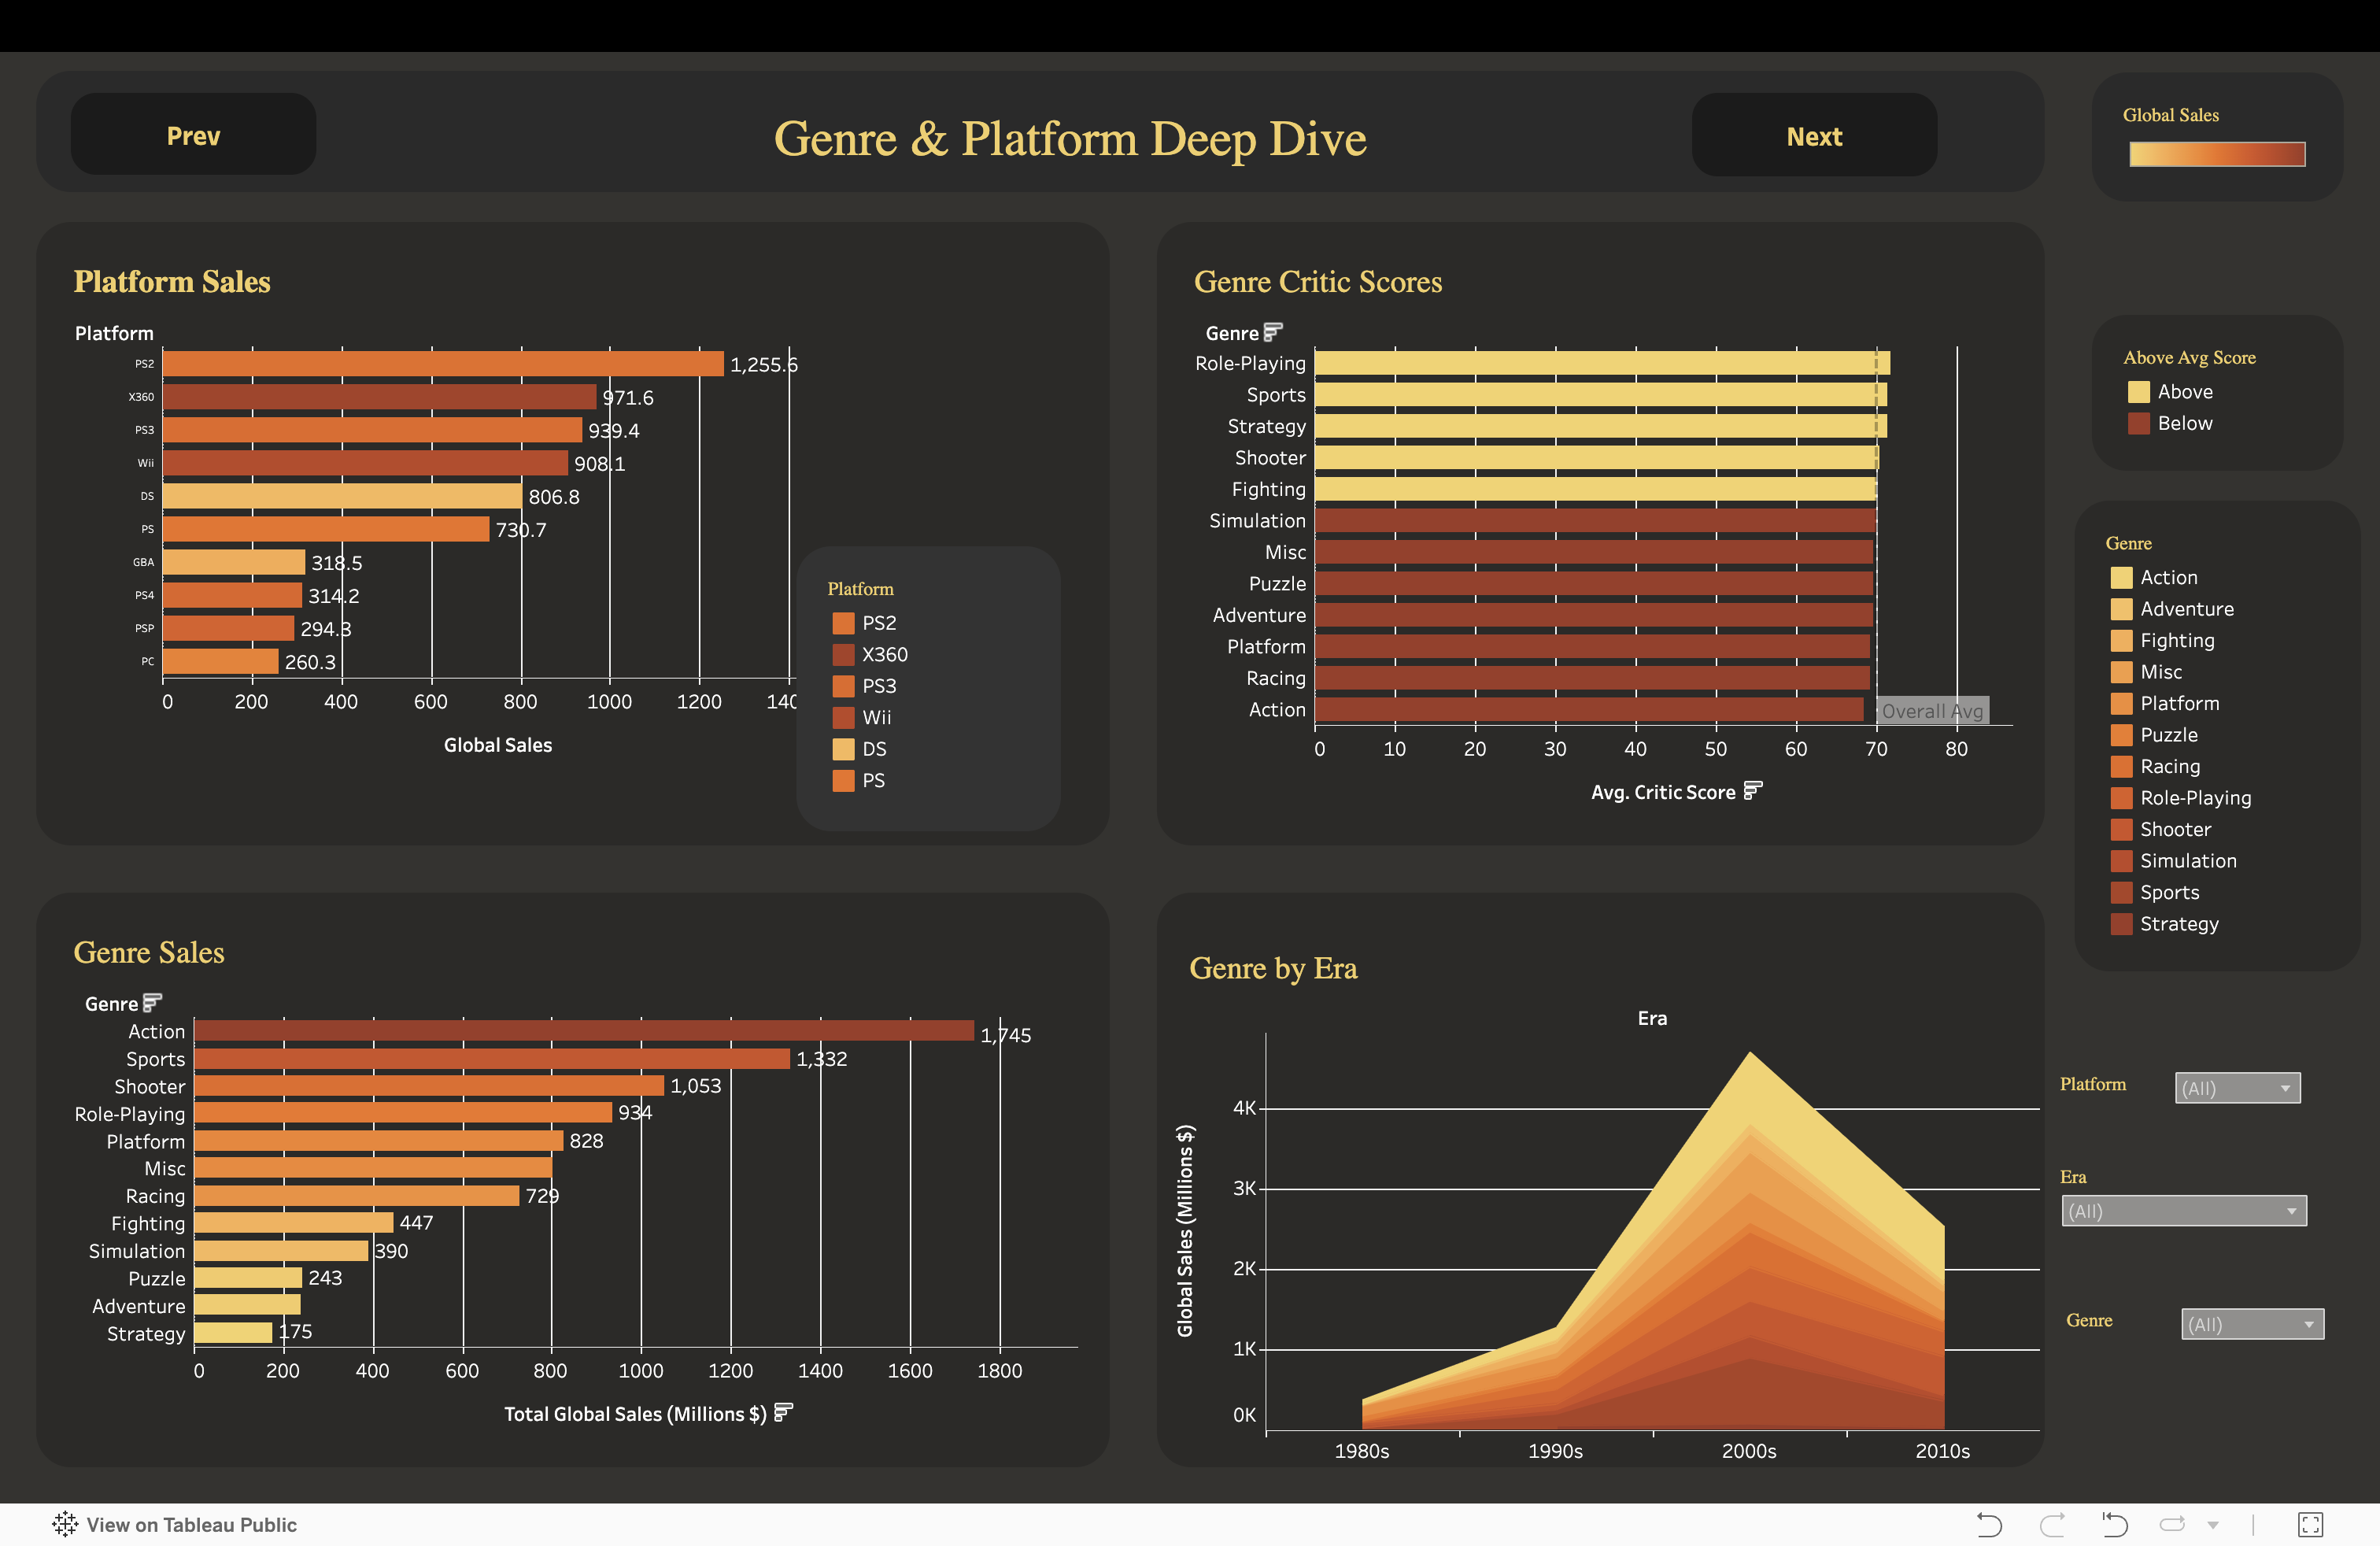

This screenshot's page, from the dashboard's own definition file:
{"tool":"tableau","page":{"name":"Genre & Platform Deep Dive (2)","canvas":[1000,1000],"units":"permille","ordinal":1},"visuals":[{"type":"text","box":[5,8.7,870.4,92.2]},{"type":"legend","title":"Genre Critic Scores","param":"[federated.1dz0gq21vl1kw11aapws80rjt97z].[usr:Calculation_0898019782762496:nk:1]","box":[875.4,8.7,119.6,139.1]},{"type":"dashboard-object","box":[711,28,103,57.2]},{"type":"dashboard-object","box":[29.6,28.2,103.2,56.3]},{"type":"worksheet","title":"Platform Sales","mark":"Automatic","rows":["Platform"],"cols":["Global_Sales"],"box":[5,100.9,414.1,427.9]},{"type":"legend","title":"Platform Sales","param":"[federated.1dz0gq21vl1kw11aapws80rjt97z].[none:Platform:nk]","box":[419.1,100.9,66.1,427.9]},{"type":"worksheet","title":"Genre Critic Scores","mark":"Automatic","rows":["Genre"],"cols":["Critic_Score"],"box":[485.2,100.9,390.2,453.9]},{"type":"legend","title":"Genre by Era","param":"[federated.1dz0gq21vl1kw11aapws80rjt97z].[none:Genre:nk]","box":[875.4,165.2,119.6,334.8]},{"type":"filter","title":"Genre Sales","param":"[federated.1dz0gq21vl1kw11aapws80rjt97z].[none:Platform:nk]","box":[875.4,500,119.6,83.7]},{"type":"worksheet","title":"Genre Sales","mark":"Automatic","rows":["Genre"],"cols":["Global_Sales"],"box":[5,528.8,480.2,462.5]},{"type":"legend","title":"Genre Sales","param":"[federated.1dz0gq21vl1kw11aapws80rjt97z].[sum:Global_Sales:qk]","box":[259.9,544.3,179.4,57.8]},{"type":"worksheet","title":"Genre by Era","mark":"Area","rows":["Global_Sales"],"cols":["Era"],"box":[485.2,554.8,390.2,436.5]},{"type":"filter","title":"Genre Sales","param":"[federated.1dz0gq21vl1kw11aapws80rjt97z].[none:Era:nk]","box":[875.4,583.7,119.6,84.8]},{"type":"filter","title":"Genre Sales","param":"[federated.1dz0gq21vl1kw11aapws80rjt97z].[none:Genre:nk]","box":[875.4,668.5,119.6,56.5]}]}

Visuals, with their boxes on the dashboard's canvas, which has no fixed pixel size, in thousandths of its width and height (x1, y1, x2, y2). These are canvas units, not pixel positions in the 2380x1546 screenshot, which may show the page scaled, cropped or inside an application window:
text: <region>5, 9, 875, 101</region>
"Genre Critic Scores" legend: <region>875, 9, 995, 148</region>
dashboard-object: <region>711, 28, 814, 85</region>
dashboard-object: <region>30, 28, 133, 84</region>
"Platform Sales" worksheet: <region>5, 101, 419, 529</region>
"Platform Sales" legend: <region>419, 101, 485, 529</region>
"Genre Critic Scores" worksheet: <region>485, 101, 875, 555</region>
"Genre by Era" legend: <region>875, 165, 995, 500</region>
"Genre Sales" filter: <region>875, 500, 995, 584</region>
"Genre Sales" worksheet: <region>5, 529, 485, 991</region>
"Genre Sales" legend: <region>260, 544, 439, 602</region>
"Genre by Era" worksheet (Area marks): <region>485, 555, 875, 991</region>
"Genre Sales" filter: <region>875, 584, 995, 668</region>
"Genre Sales" filter: <region>875, 668, 995, 725</region>
